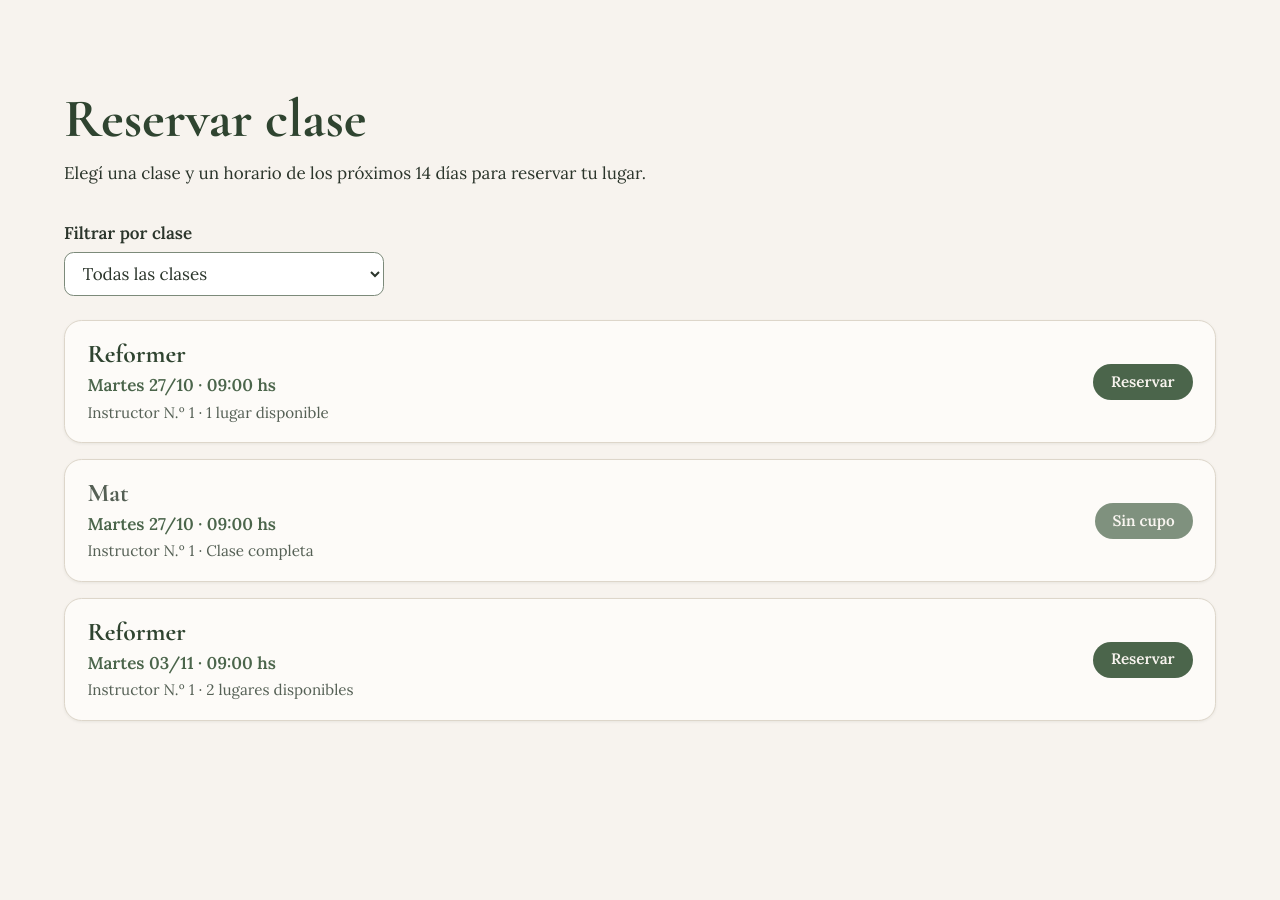
ReservarPage › reserva una clase tras confirmar y muestra la confirmación
The width and height of the screenshot is (1280, 900).
Click the button with aria-label "Reservar Reformer, Martes 27/10". click: (1143, 382)
box: [1093, 364, 1193, 400]
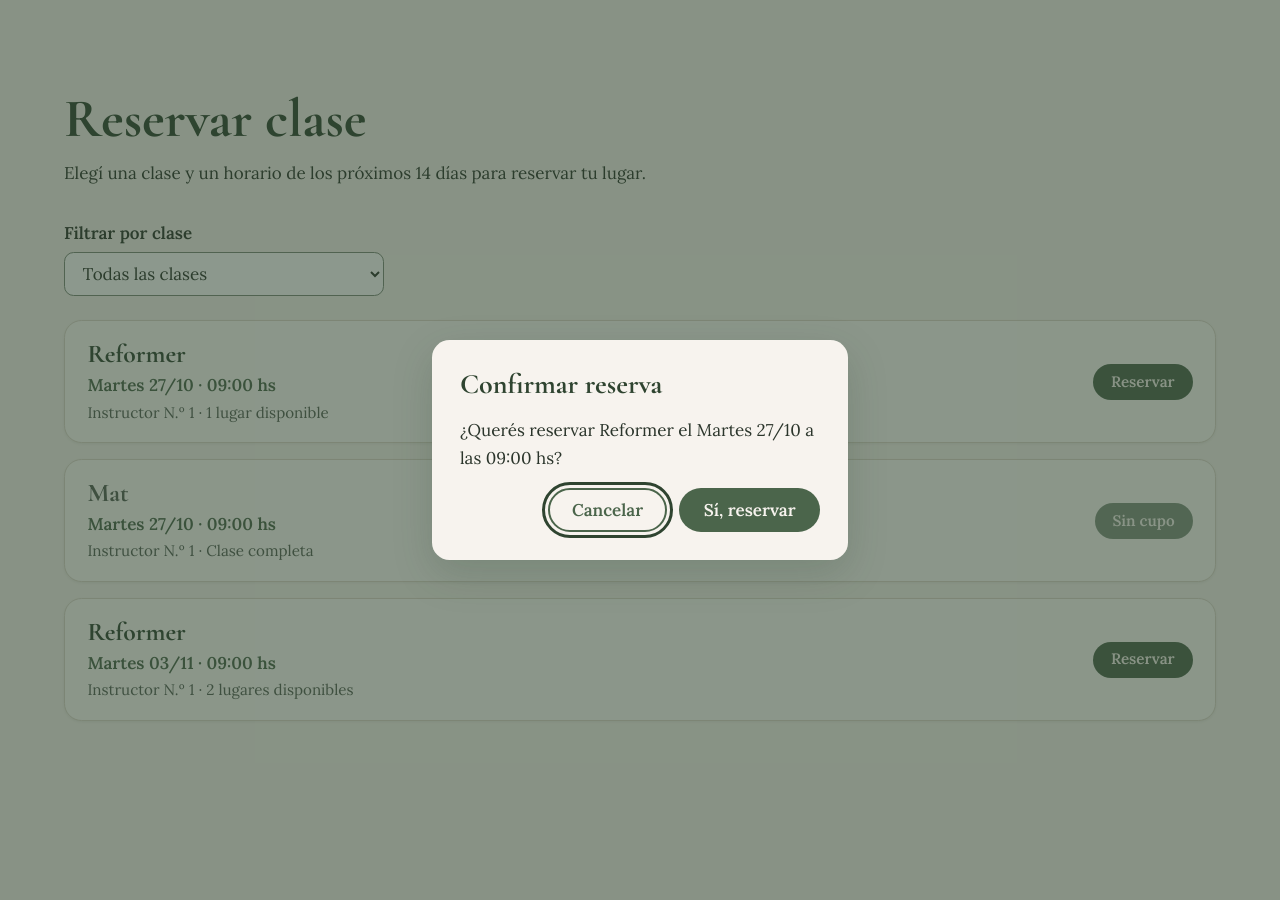
Click the button "Sí, reservar". click: (750, 510)
box: [679, 488, 820, 532]
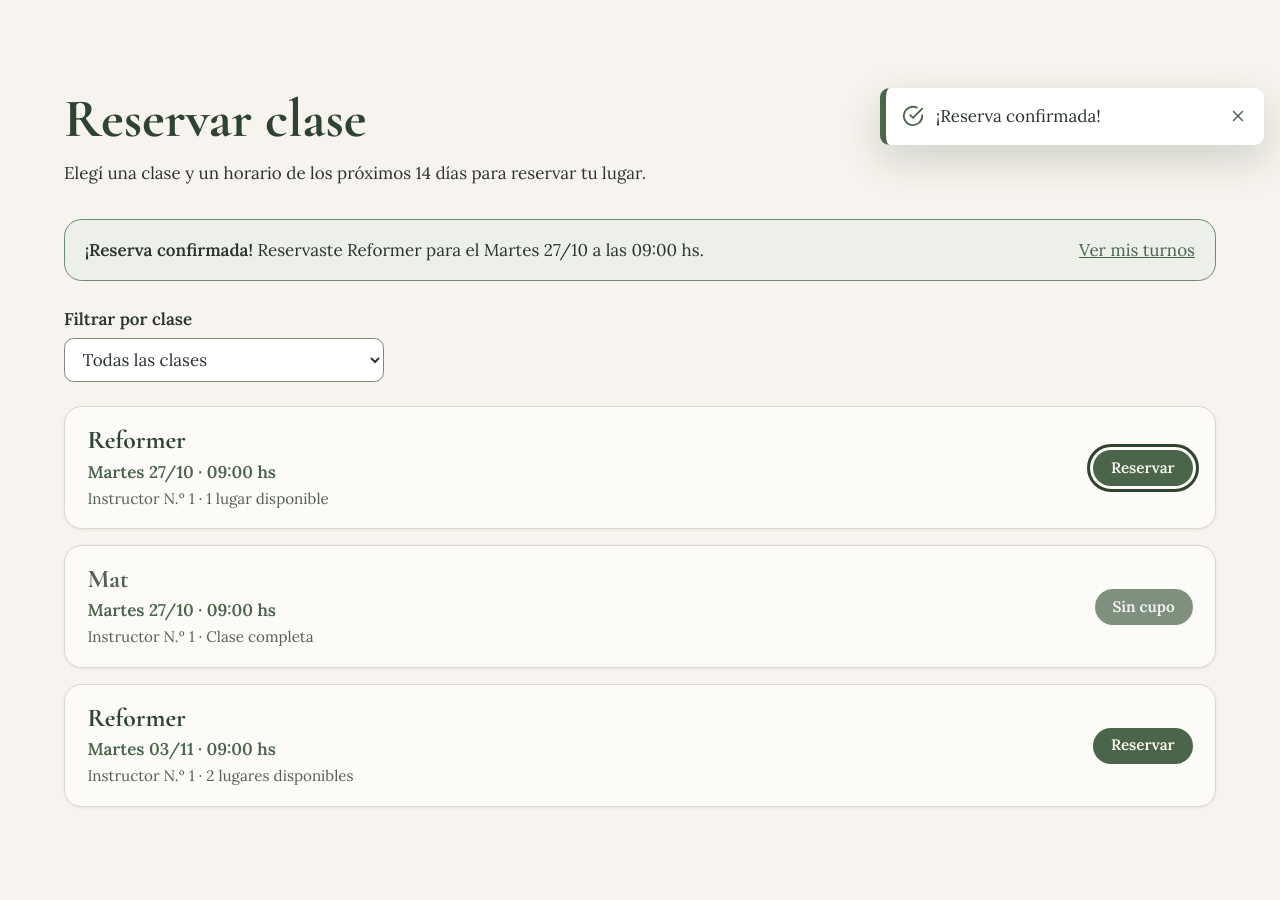
expect the text "¡Reserva confirmada!" in the row of "Ver mis turnos" is shown: met, box [85, 239, 253, 261]
